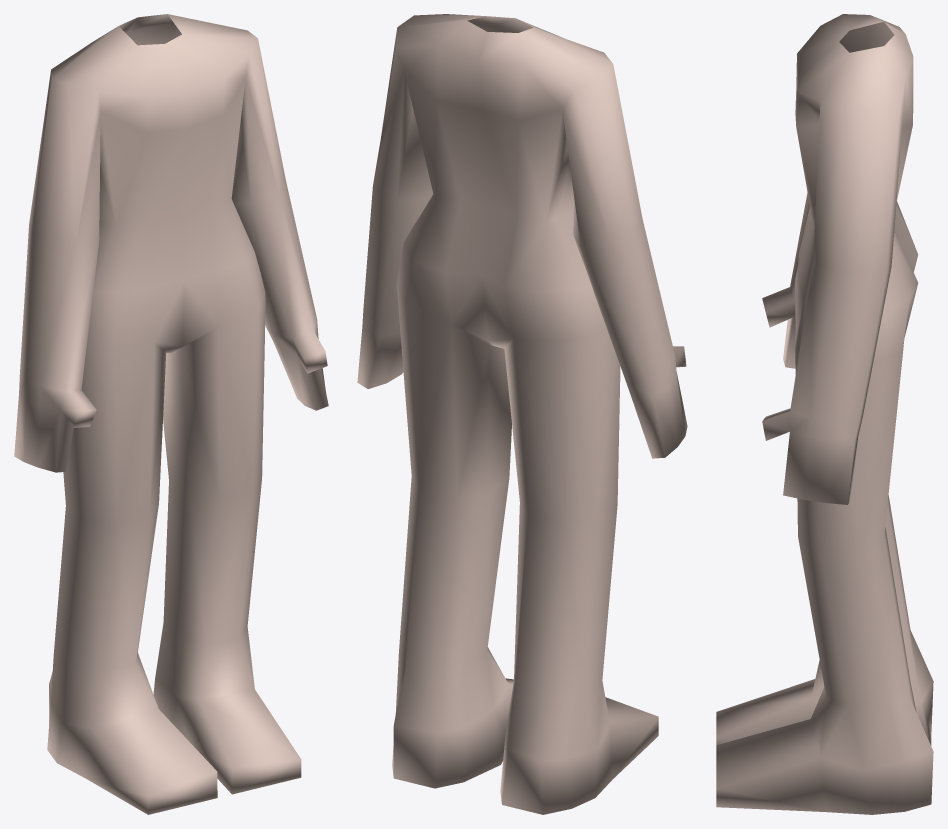
The model's file is player.obj.
3 renders of one model, left to right at view 1: azimuth 30°, elevation 25°; view 2: azimuth 150°, elevation 25°; view 3: azimuth 270°, elevation 25°, orthographic. The views are drawn at different scales.
Parts seen in each view (by area): view 1: body1.001; view 2: body1.001; view 3: body1.001.
Boxes of the visible parts, x1,y1,x2,y2 form: body1.001: [14, 14, 328, 814]; body1.001: [357, 14, 687, 814]; body1.001: [716, 14, 933, 814].
Bounding box in the file's own units: 0.5925 × 1.37 × 0.3675.
1 material, 1 textured.
